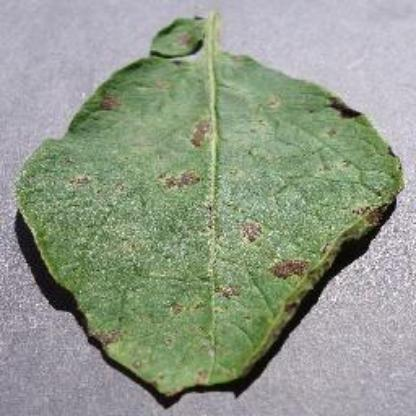Early-Blight: (13, 6, 412, 416)
